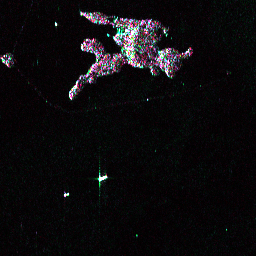ship: (95, 172, 110, 184), (61, 191, 71, 199)
